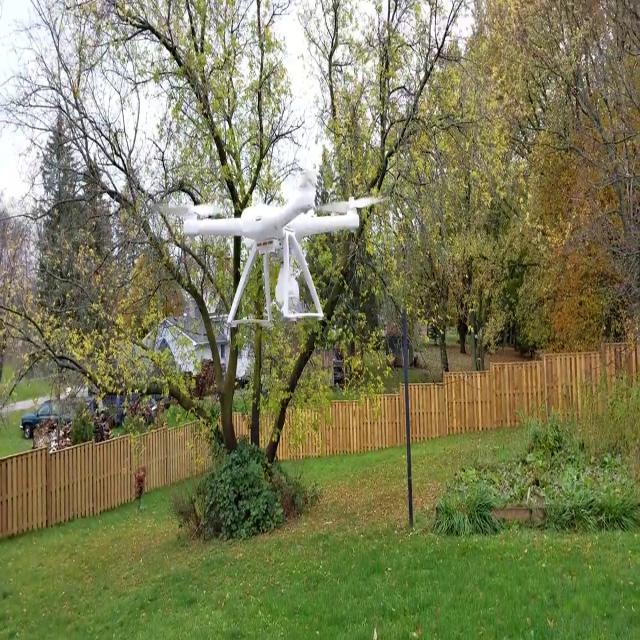drone: (173, 177, 391, 274)
